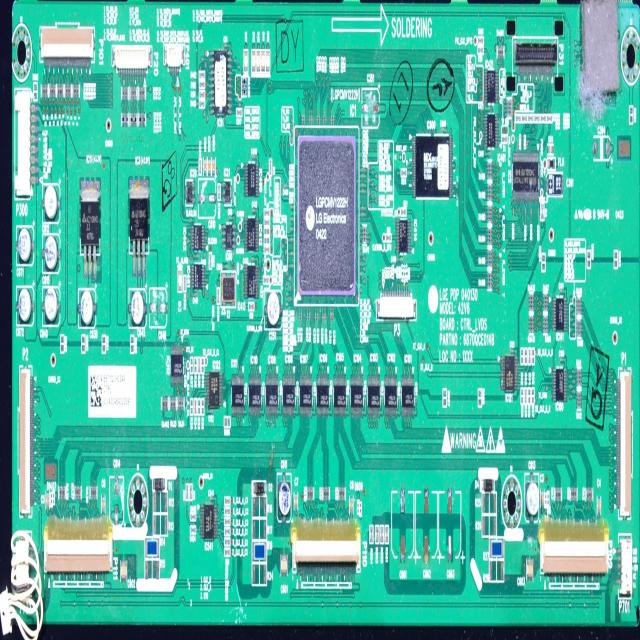Capacitor Jumper: (150, 290, 167, 327), (363, 89, 379, 126), (526, 475, 539, 520), (79, 291, 94, 328), (43, 186, 58, 222), (278, 475, 290, 517), (18, 228, 32, 263), (45, 288, 57, 324), (132, 290, 144, 326), (19, 289, 31, 324), (45, 237, 57, 271), (268, 294, 279, 328), (593, 139, 611, 157), (400, 490, 405, 554), (448, 490, 452, 559), (425, 490, 428, 558), (115, 477, 119, 525), (120, 559, 127, 584), (199, 194, 216, 202), (281, 555, 287, 577), (527, 558, 533, 579), (101, 495, 105, 514), (294, 493, 298, 511), (541, 490, 544, 509), (208, 158, 211, 176), (350, 496, 353, 514), (548, 146, 554, 154), (598, 498, 601, 514), (212, 159, 215, 174), (204, 158, 206, 176)
Connector: (291, 516, 360, 585), (45, 522, 113, 582), (540, 524, 606, 583), (15, 86, 38, 200), (19, 366, 35, 518), (617, 370, 632, 527), (39, 28, 96, 68), (512, 38, 558, 82), (377, 290, 416, 322), (618, 539, 632, 599)
IC: (295, 129, 358, 303), (412, 134, 452, 198), (80, 178, 101, 277), (129, 178, 150, 276), (209, 48, 232, 116), (512, 152, 540, 203), (501, 357, 518, 391), (206, 373, 223, 407), (200, 506, 217, 540), (244, 164, 260, 197), (396, 218, 410, 254), (171, 343, 183, 385), (484, 70, 499, 103), (316, 374, 328, 415), (232, 374, 244, 415), (283, 375, 295, 416), (402, 375, 414, 416), (351, 375, 363, 415), (384, 375, 396, 415), (300, 375, 312, 415), (334, 376, 346, 416), (249, 376, 261, 415), (553, 298, 567, 331), (553, 369, 567, 402), (368, 375, 379, 416), (484, 114, 498, 146), (244, 219, 258, 251), (266, 375, 277, 415), (192, 226, 206, 250), (190, 266, 204, 290), (186, 179, 195, 204)
Resistor Jumper: (482, 494, 496, 513), (482, 517, 496, 536), (252, 520, 266, 539), (490, 538, 503, 558), (490, 561, 503, 580), (253, 565, 266, 584), (252, 498, 266, 515), (253, 543, 266, 561), (322, 486, 330, 502), (576, 369, 582, 386), (138, 112, 145, 126), (74, 486, 81, 500), (307, 487, 314, 501), (338, 488, 345, 502), (242, 78, 248, 94), (59, 484, 65, 500), (543, 292, 548, 311), (555, 488, 562, 501), (529, 316, 534, 333), (139, 87, 146, 99), (122, 86, 128, 100), (224, 416, 231, 428), (570, 488, 577, 500), (586, 488, 593, 500), (488, 160, 492, 180), (529, 294, 534, 310), (543, 316, 548, 332), (577, 392, 582, 408), (42, 84, 48, 97), (65, 84, 71, 97), (162, 397, 168, 410), (90, 486, 96, 499), (49, 85, 56, 96), (540, 202, 544, 221), (587, 251, 591, 270), (57, 85, 63, 97), (130, 88, 136, 100), (629, 106, 633, 124), (122, 114, 128, 126), (130, 114, 136, 126), (488, 183, 492, 201), (614, 250, 618, 268), (542, 252, 546, 270), (102, 335, 106, 353), (524, 388, 528, 406), (478, 388, 482, 406), (178, 398, 184, 410), (375, 526, 379, 544), (380, 526, 384, 544), (385, 526, 389, 544), (224, 517, 231, 527), (224, 547, 231, 557), (507, 100, 511, 117), (198, 159, 202, 176), (488, 206, 492, 223), (363, 227, 367, 244), (488, 228, 492, 245), (488, 271, 492, 288), (577, 298, 581, 315), (60, 335, 64, 352), (130, 336, 134, 353), (520, 348, 524, 365), (73, 85, 79, 96), (488, 251, 492, 267), (183, 276, 187, 292), (524, 348, 528, 364), (224, 497, 231, 506), (224, 507, 231, 516), (577, 321, 581, 336), (197, 358, 201, 373), (170, 398, 176, 408), (190, 525, 196, 535), (224, 528, 231, 536), (528, 114, 534, 123), (534, 114, 540, 123), (515, 115, 521, 124), (540, 114, 546, 123), (264, 227, 270, 236), (209, 252, 212, 270), (248, 303, 254, 312), (521, 387, 524, 405), (528, 388, 531, 406), (186, 483, 189, 501), (217, 288, 220, 305), (82, 335, 85, 352), (190, 357, 193, 374), (194, 357, 197, 374), (194, 399, 197, 416), (189, 484, 192, 501), (370, 526, 373, 543), (498, 47, 503, 57), (199, 80, 205, 88), (34, 84, 37, 100), (199, 90, 205, 98), (199, 100, 205, 108), (236, 109, 242, 117), (522, 115, 528, 123), (547, 115, 553, 123), (401, 169, 407, 177), (264, 210, 270, 218), (386, 234, 392, 242), (263, 276, 269, 284), (528, 348, 531, 364), (443, 390, 446, 406), (198, 399, 201, 415), (190, 400, 193, 416), (201, 399, 204, 415), (190, 514, 196, 522), (224, 538, 230, 546), (199, 72, 205, 79), (264, 218, 270, 225), (264, 237, 270, 244), (264, 245, 270, 252), (401, 208, 406, 216), (478, 37, 483, 45), (478, 46, 483, 54), (532, 387, 534, 406), (532, 348, 534, 365), (218, 184, 220, 200), (202, 358, 204, 374), (188, 484, 189, 485)
iC: (244, 265, 259, 298), (222, 224, 236, 250), (223, 182, 231, 204)
